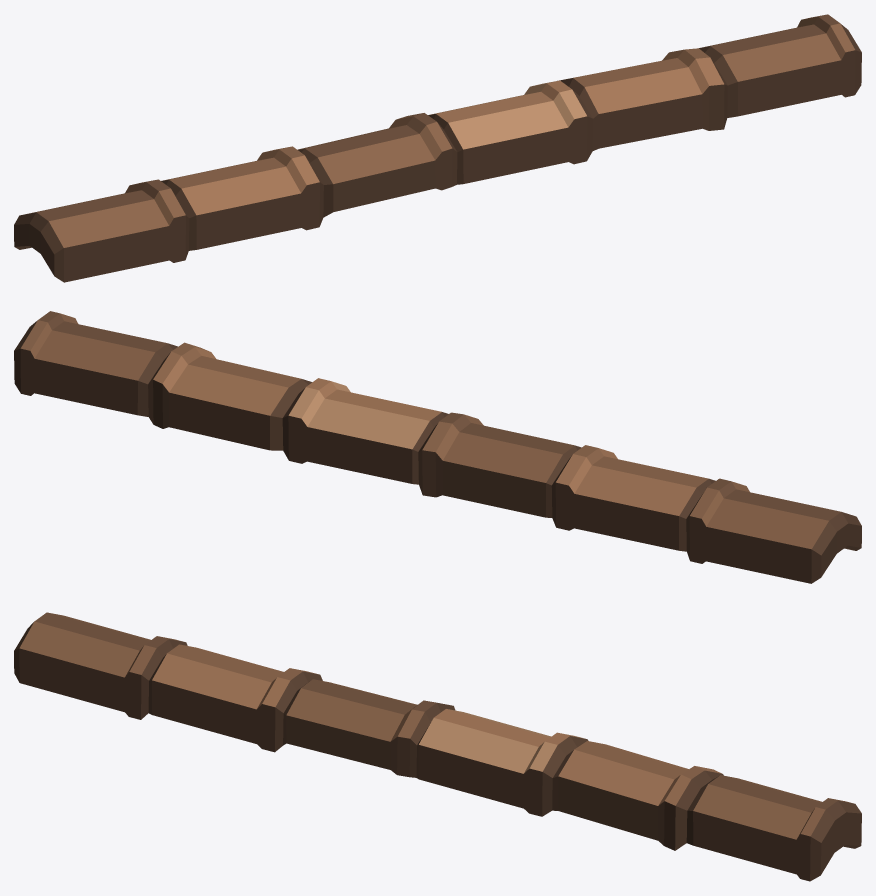
Rendered from SM_Bld_Roof_Manor_Trim_Top_01.fbx.
3 renders of one model, top to bottom at view 1: azimuth 30°, elevation 25°; view 2: azimuth 150°, elevation 25°; view 3: azimuth 330°, elevation 25°, orthographic.
Parts seen in each view (by area): view 1: SM_Bld_Roof_Manor_Trim_Top_01; view 2: SM_Bld_Roof_Manor_Trim_Top_01; view 3: SM_Bld_Roof_Manor_Trim_Top_01.
Part boxes in pixels (x1,y1,x2,y2): SM_Bld_Roof_Manor_Trim_Top_01: (14, 14, 861, 282); SM_Bld_Roof_Manor_Trim_Top_01: (14, 311, 861, 583); SM_Bld_Roof_Manor_Trim_Top_01: (14, 612, 861, 881).
Bounding box in the file's own units: 253 × 19.13 × 26.57.
